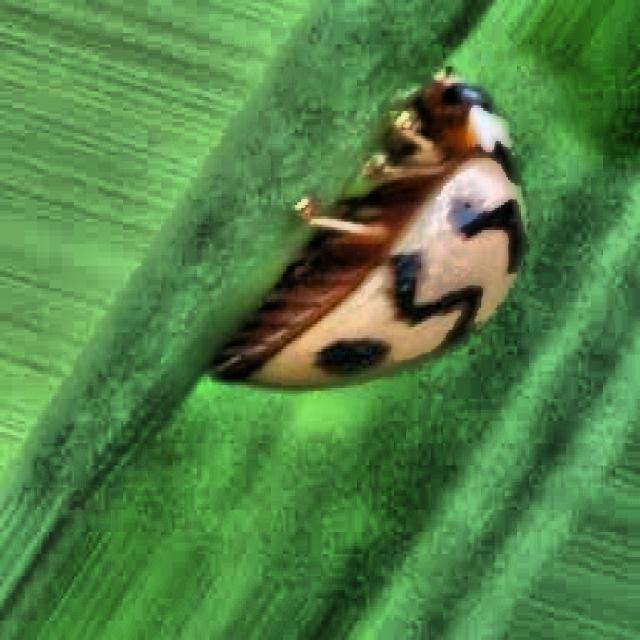Asian-Lady-beetle: (191, 33, 535, 436)
